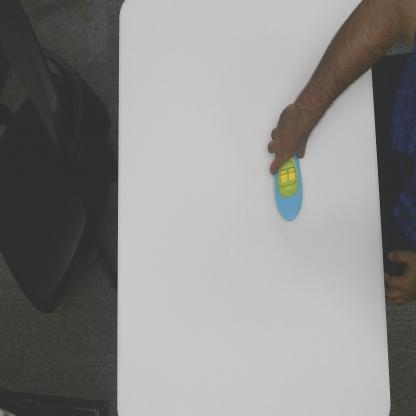Arm: (302, 0, 372, 133)
Boat: (273, 149, 303, 222)
Hand: (268, 102, 307, 176)
